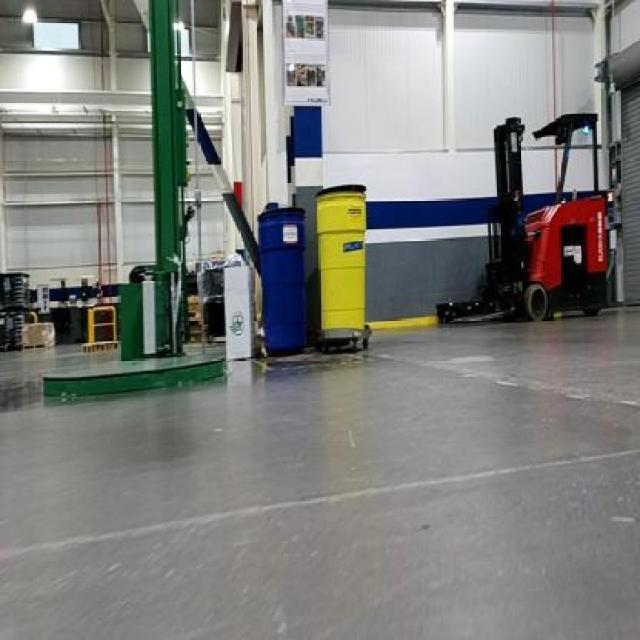forklift: (483, 105, 609, 324)
